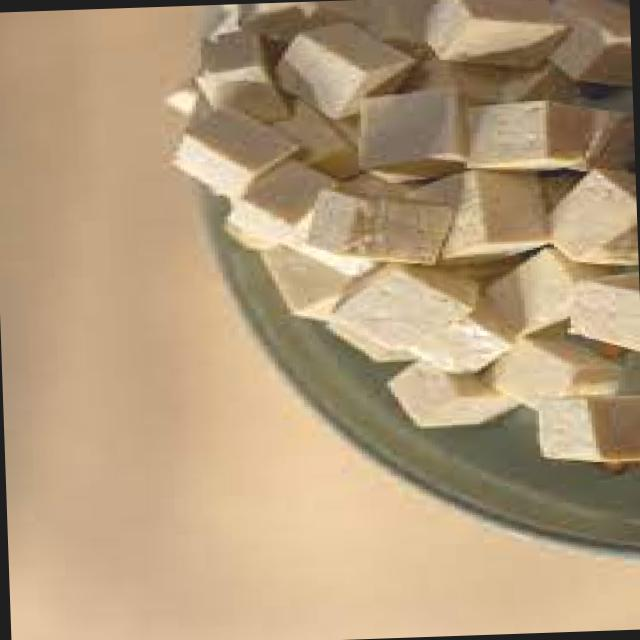tof: (210, 0, 632, 397)
